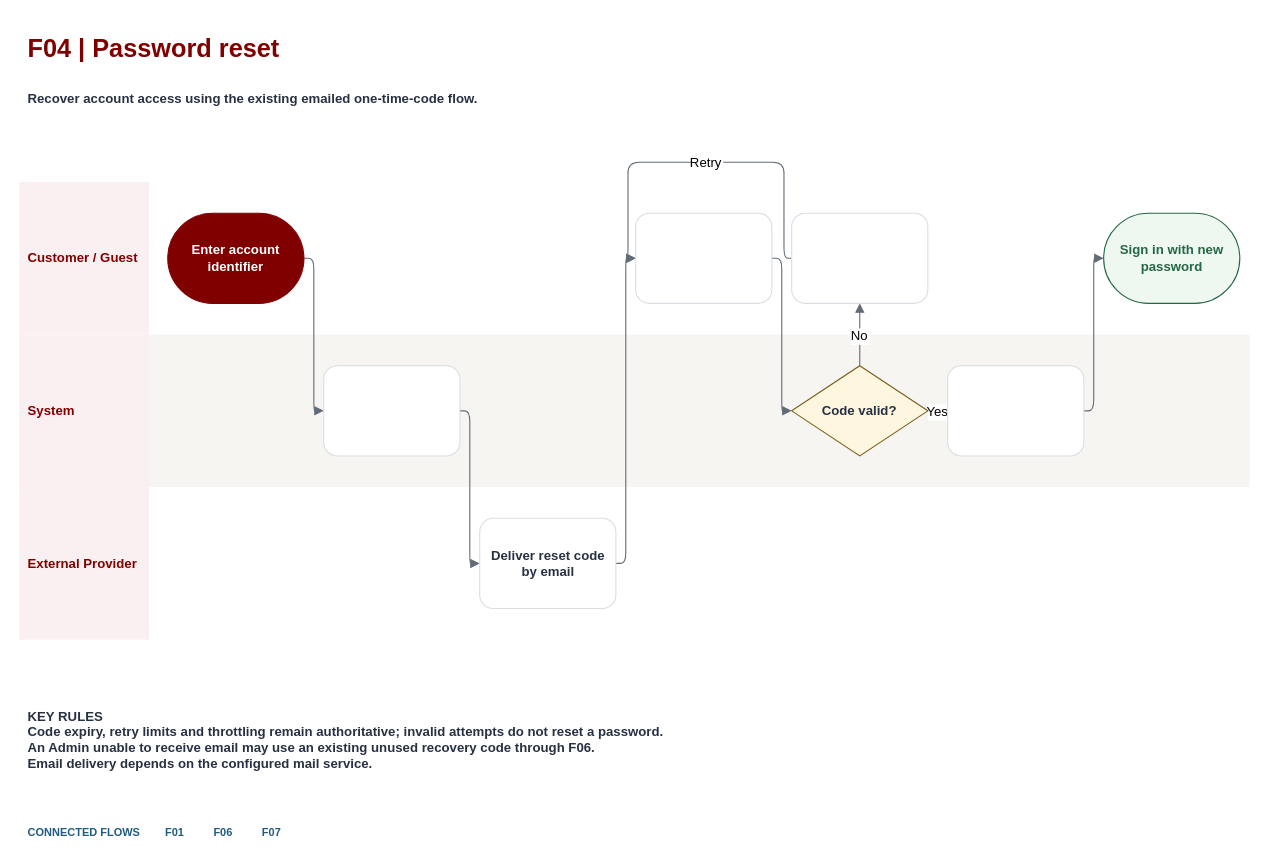
Image size: 1268x860. Some labels were removed from this diagram. Here are the shapes that lost their labels. From the top down, the centre of each, then its label:
At point (703, 257): "Enter code and new password".
At point (859, 257): "Correct code or request a new one".
At point (391, 410): "Check request limits".
At point (1015, 410): "Update password securely".
